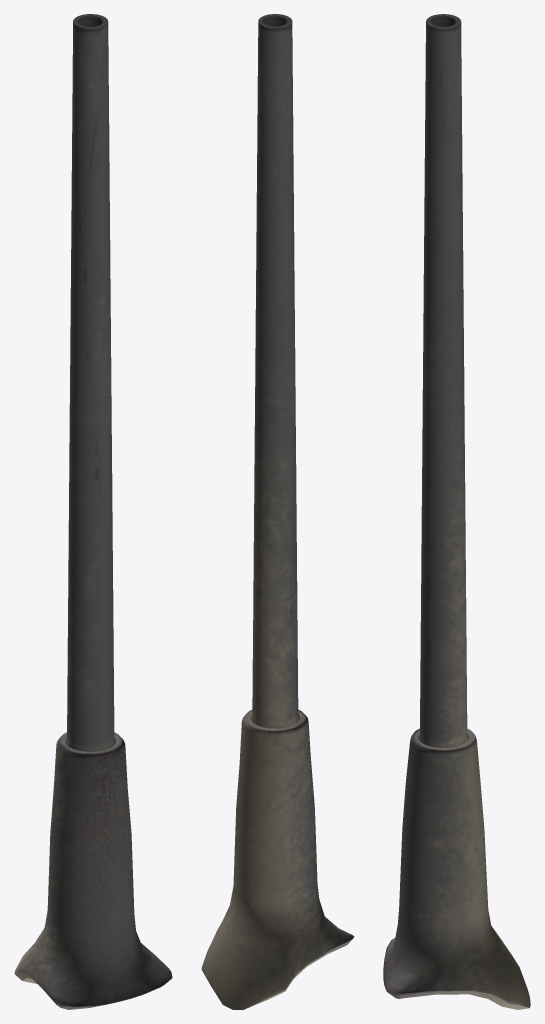
File: Gun_08.glb
3 views of the same model, side by side, from view 1: azimuth 30°, elevation 25°; view 2: azimuth 150°, elevation 25°; view 3: azimuth 270°, elevation 25° (orthographic). The views are drawn at different scales.
Parts seen in each view (by area): view 1: set_0_group_0; view 2: set_0_group_0; view 3: set_0_group_0.
Boxes of the visible parts, x1,y1,x2,y2 form: set_0_group_0: (14,14,172,1009); set_0_group_0: (201,14,354,1009); set_0_group_0: (383,14,530,1009).
Bounding box in the file's own units: 0.5753 × 4.62 × 0.6263.
Materials: 1 (1 with a texture image).
